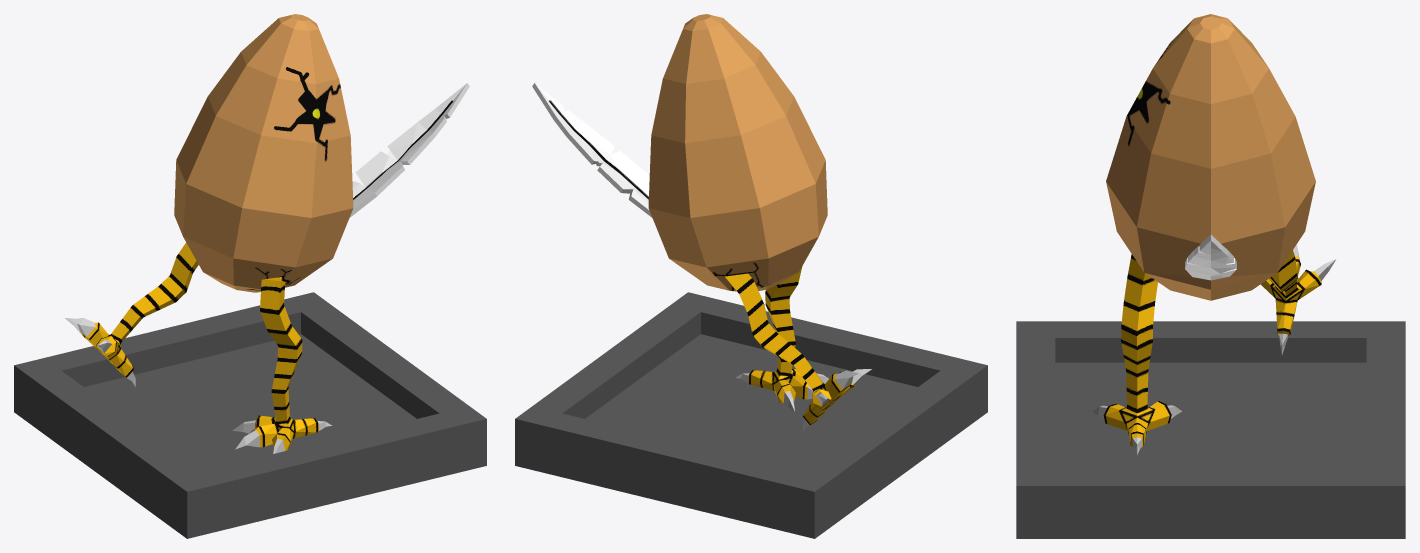
The model's file is 3D_special_gammur_eggcracker.fbx.
The picture shows the model from 3 angles, left to right: view 1: azimuth 30°, elevation 25°; view 2: azimuth 150°, elevation 25°; view 3: azimuth 270°, elevation 25°; orthographic projection. The views are drawn at different scales.
Visible parts, largest first — view 1: SM_eggcracker_01, SM_eggcracker_body, SM_eggcracker_legs; view 2: SM_eggcracker_01, SM_eggcracker_body, SM_eggcracker_legs; view 3: SM_eggcracker_01, SM_eggcracker_body, SM_eggcracker_legs.
Part boxes in pixels (x1=…): SM_eggcracker_01: x1=14, y1=292, x2=486, y2=538; SM_eggcracker_body: x1=174, y1=14, x2=469, y2=292; SM_eggcracker_legs: x1=65, y1=242, x2=332, y2=453; SM_eggcracker_01: x1=515, y1=292, x2=987, y2=538; SM_eggcracker_body: x1=532, y1=14, x2=827, y2=291; SM_eggcracker_legs: x1=725, y1=266, x2=871, y2=432; SM_eggcracker_01: x1=1016, y1=321, x2=1405, y2=538; SM_eggcracker_body: x1=1106, y1=14, x2=1315, y2=300; SM_eggcracker_legs: x1=1092, y1=244, x2=1336, y2=454.
Size of the model in its own units: 123 by 131 by 100.
2 materials, 1 textured.
